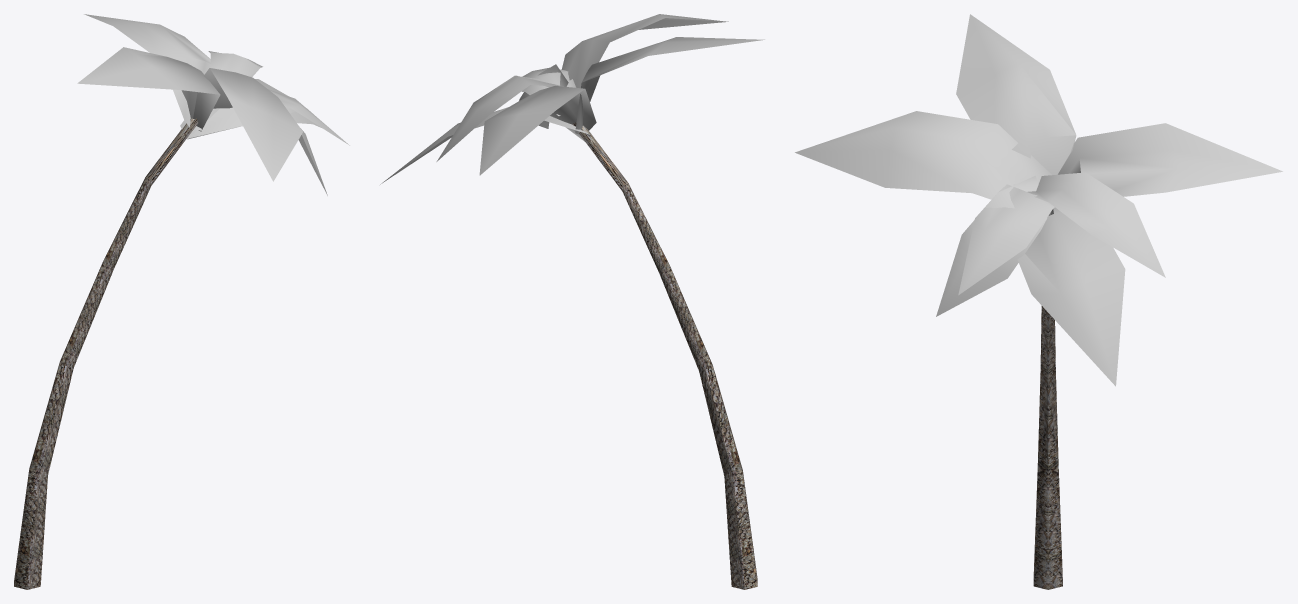
Rendered from bush_palm_2s.fbx.
3 renders of one model, left to right at view 1: azimuth 30°, elevation 25°; view 2: azimuth 150°, elevation 25°; view 3: azimuth 270°, elevation 25°, orthographic. The views are drawn at different scales.
Parts seen in each view (by area): view 1: Scene_Root; view 2: Scene_Root; view 3: Scene_Root.
Boxes of the visible parts, x1,y1,x2,y2 form: Scene_Root: (14,14,349,589); Scene_Root: (380,14,764,589); Scene_Root: (795,14,1282,589).
Bounding box in the file's own units: 541 × 764 × 587.
